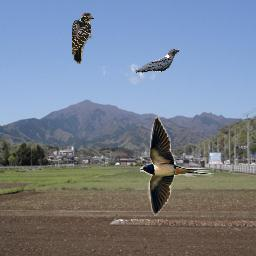Crow: (135, 49, 180, 73)
Swallow: (140, 116, 214, 216)
Woodpecker: (72, 12, 94, 64)
